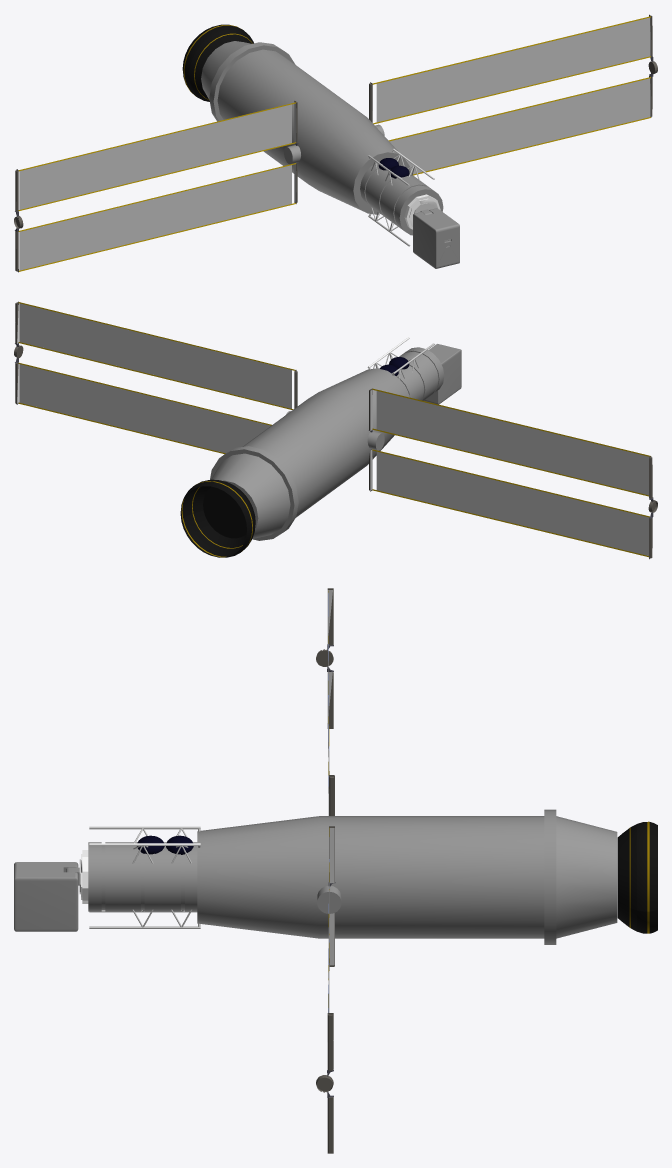
Rendered from space_station.FBX.
3 renders of one model, top to bottom at view 1: azimuth 30°, elevation 25°; view 2: azimuth 150°, elevation 25°; view 3: azimuth 270°, elevation 25°, orthographic. The views are drawn at different scales.
Visible parts, largest first — view 1: ISSACS.C001, ISSACS.C, Cylinder002, Cylinder003, Box001, pCylinder1, pCylinder5, group7 p14; view 2: ISSACS.C001, ISSACS.C, Cylinder002, pCylinder1, Cylinder003, Box001, group7 p14; view 3: Cylinder002, Cylinder003, Box001, pCylinder1, ISSACS.C, ISSACS.C001, group7 p14.
Part boxes in pixels (bbox=[...]): ISSACS.C001: bbox=[14, 101, 298, 272]; ISSACS.C: bbox=[369, 14, 657, 175]; Cylinder002: bbox=[201, 41, 410, 214]; Cylinder003: bbox=[360, 161, 443, 235]; Box001: bbox=[413, 208, 459, 268]; pCylinder1: bbox=[182, 24, 253, 101]; pCylinder5: bbox=[404, 194, 440, 229]; group7 p14: bbox=[368, 149, 434, 215]; ISSACS.C001: bbox=[368, 388, 657, 559]; ISSACS.C: bbox=[14, 301, 297, 454]; Cylinder002: bbox=[210, 368, 409, 540]; pCylinder1: bbox=[180, 479, 255, 557]; Cylinder003: bbox=[388, 347, 444, 400]; Box001: bbox=[424, 344, 461, 404]; group7 p14: bbox=[367, 337, 434, 378]; Cylinder002: bbox=[197, 809, 617, 944]; Cylinder003: bbox=[88, 842, 197, 911]; Box001: bbox=[14, 862, 79, 931]; pCylinder1: bbox=[617, 821, 657, 933]; ISSACS.C: bbox=[316, 826, 335, 1153]; ISSACS.C001: bbox=[316, 588, 334, 815]; group7 p14: bbox=[89, 826, 200, 926].
Bounding box in the file's own units: 44.06 × 6.75 × 28.
